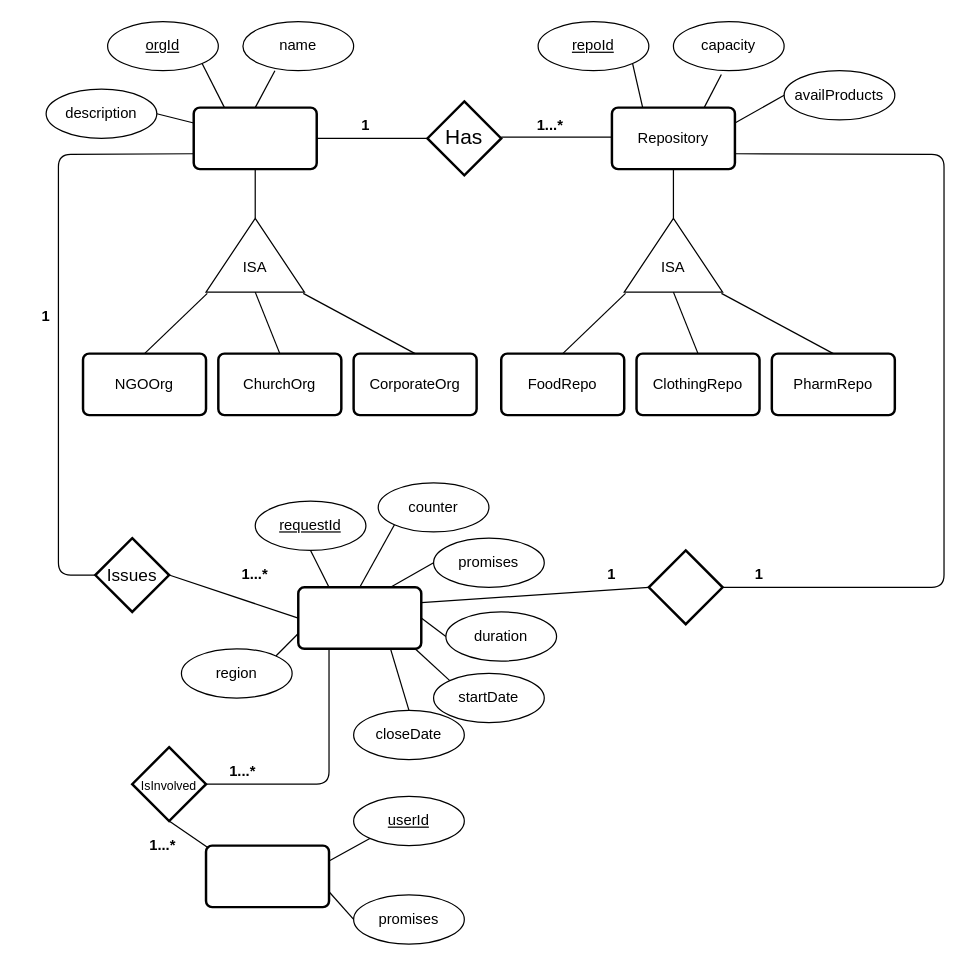
Image size: 967x966. Some labels were removed from this diagram. The shapes that lost their labels are listed below. From the top down, each one's box as (x1, y1, x2, y2) in pixels, then its label:
(192, 106, 317, 170): Organization
(647, 549, 723, 625): Updates
(296, 585, 422, 649): Request
(204, 844, 330, 908): Volunteer
